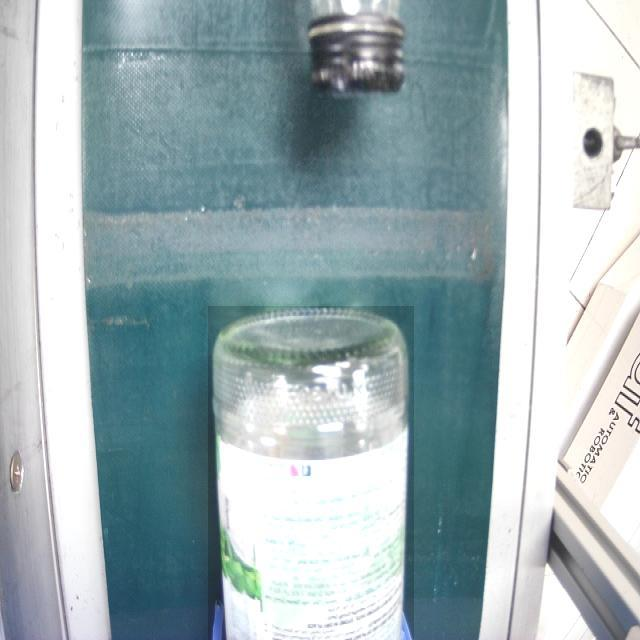Glass: (208, 306, 414, 640)
